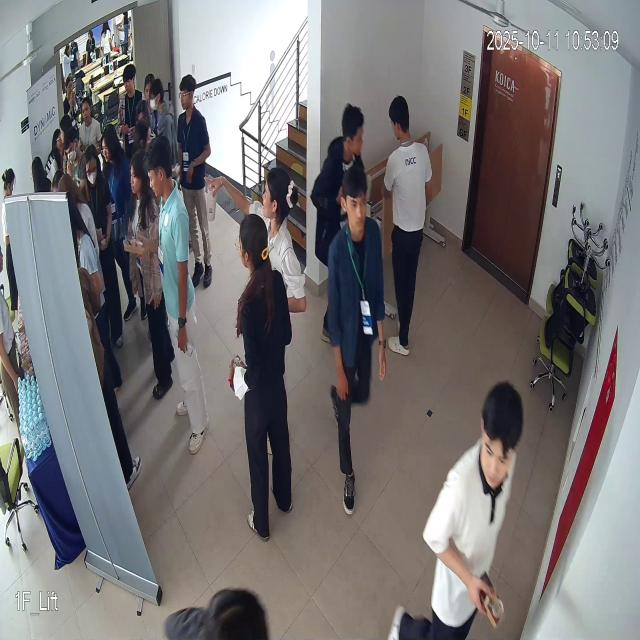face: (256, 165, 302, 228), (338, 161, 372, 237), (145, 138, 173, 203)
